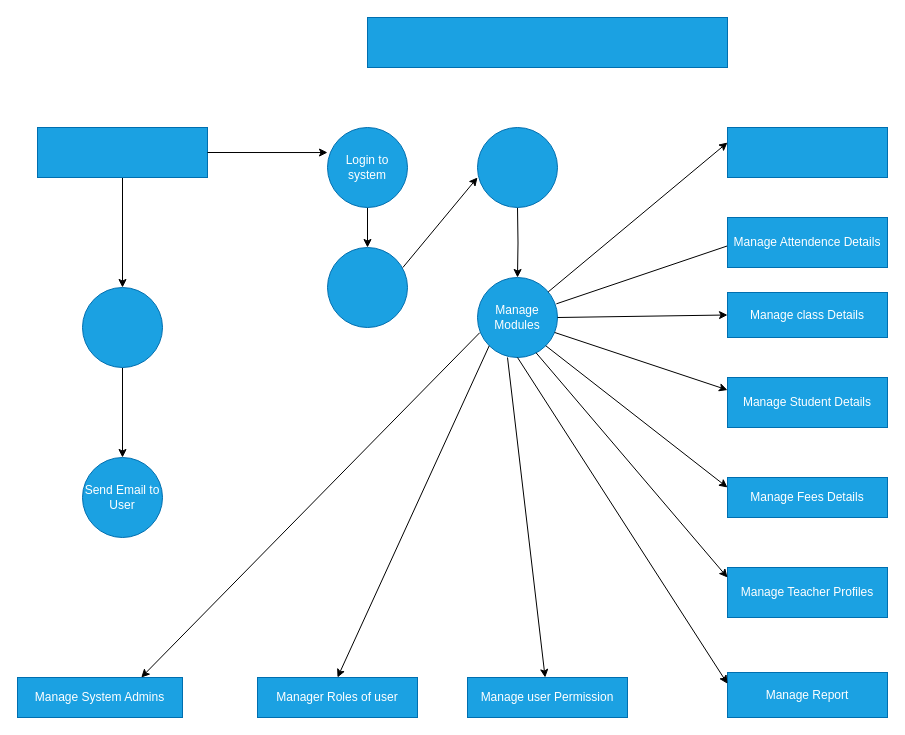
This 905x735 diagram has some shape labels left out. Here are the shapes that lost their labels. From the top down, the box of each, then its label:
(366, 16, 728, 68): Student Information System
(36, 126, 208, 178): Admin
(476, 126, 558, 208): Check Roles of Access
(726, 126, 888, 178): Manage Timetable Details
(326, 246, 408, 328): Check Credentials
(82, 286, 162, 368): Forget password
